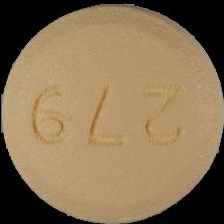50436-9950: (0, 0, 224, 224)
